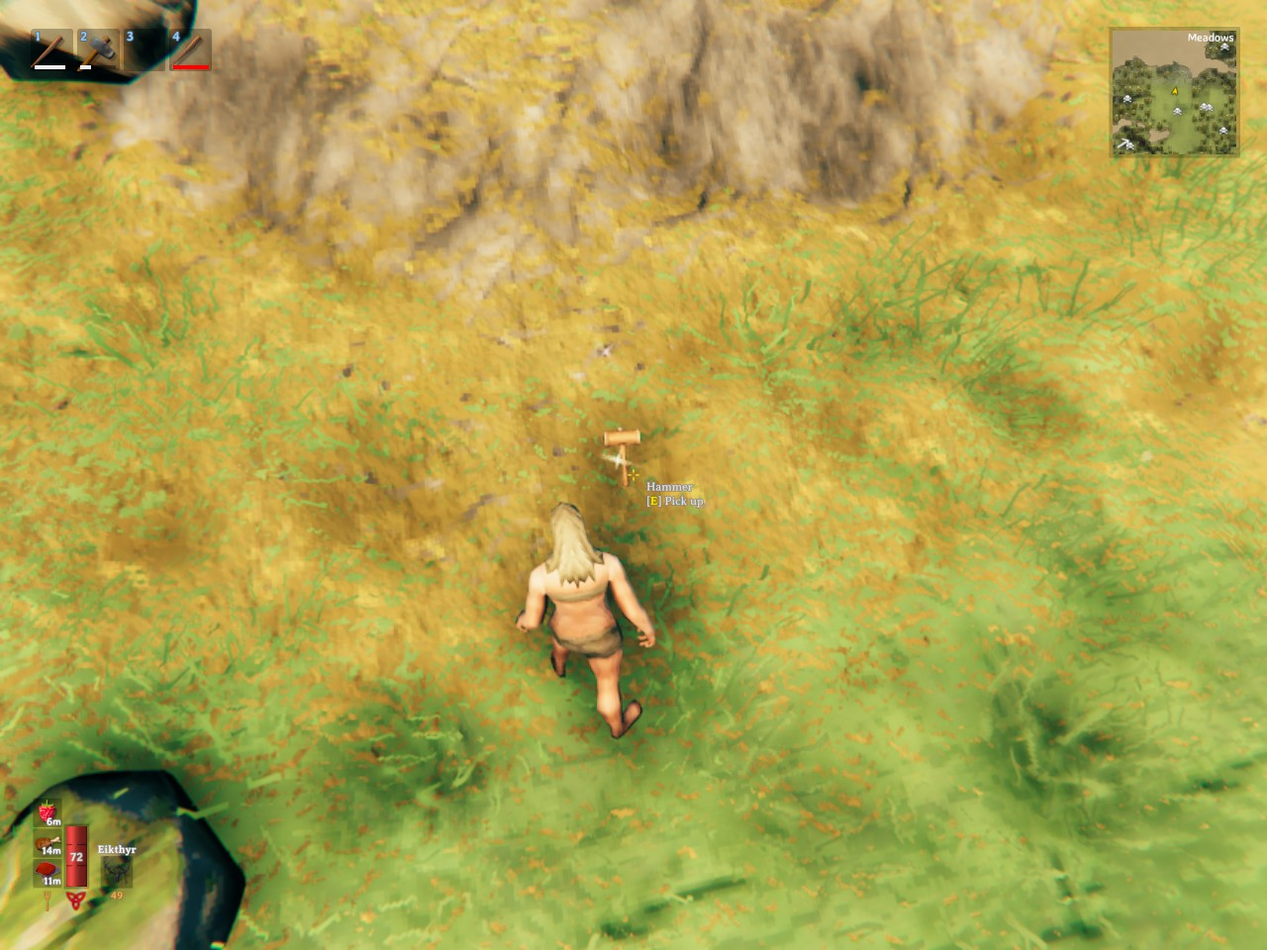Food Indicator: (36, 797, 63, 891)
Hammer: (603, 429, 640, 487)
Health Bar: (63, 820, 90, 891)
Hotbar: (25, 21, 398, 78)
